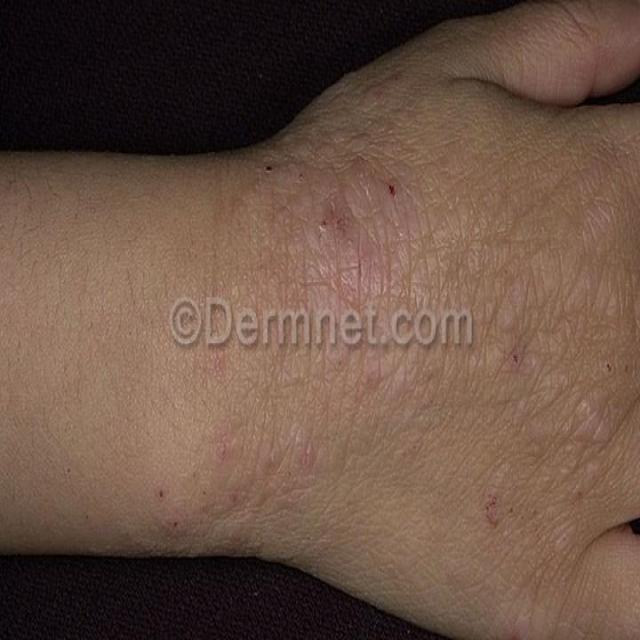liquenificacion 1: (225, 88, 638, 560)
